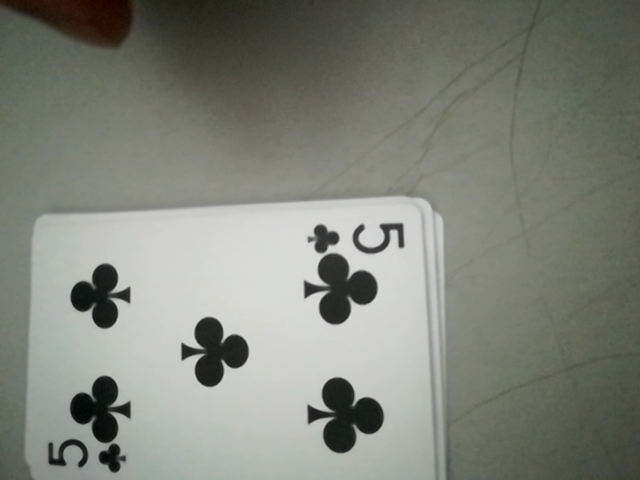mh 5: (304, 213, 413, 258), (39, 432, 131, 479)
